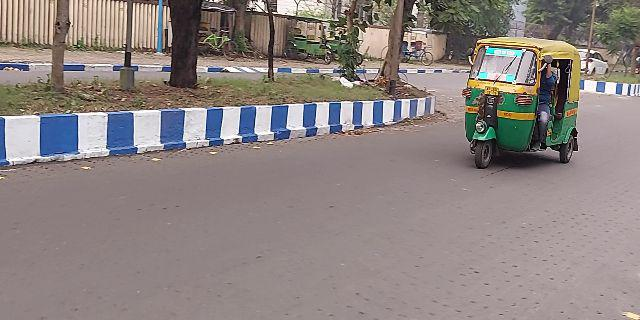Autorickshaw: (468, 35, 586, 178)
